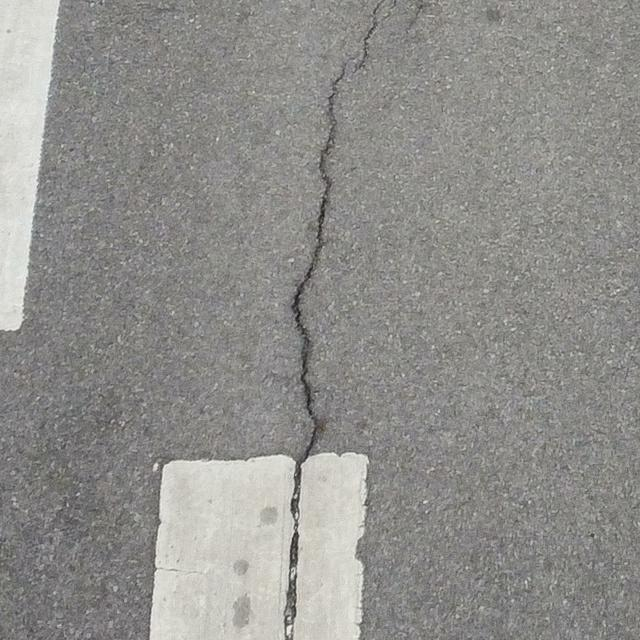LongitudinalCrack: (281, 1, 382, 638)
